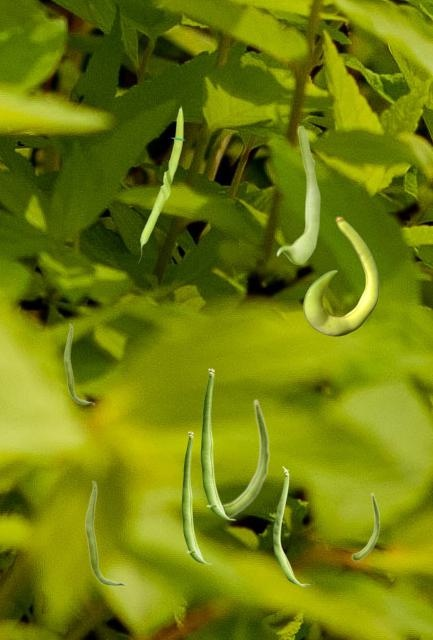french_bean: (303, 216, 378, 335), (138, 104, 184, 262), (276, 125, 319, 263), (223, 398, 269, 517), (200, 368, 235, 519), (84, 480, 125, 586), (273, 466, 309, 585), (181, 431, 211, 563), (63, 323, 94, 404), (351, 492, 379, 560)
